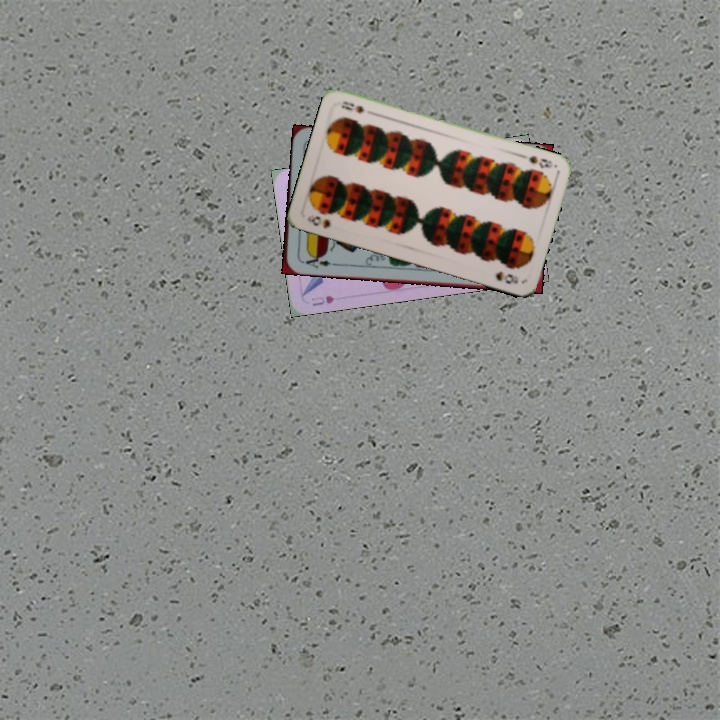EA: (298, 251, 338, 271)
HU: (307, 291, 337, 309)
S8: (303, 211, 333, 231), (525, 152, 556, 171)
